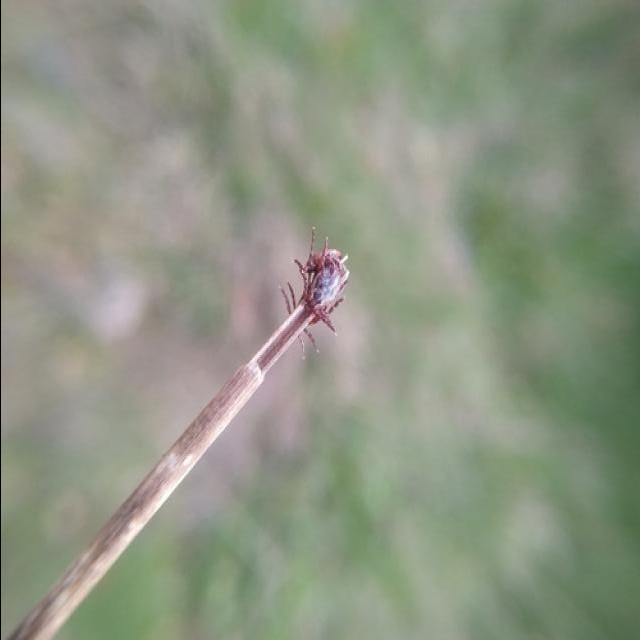Dermacentor Reticulatus-M: (292, 239, 348, 333)
